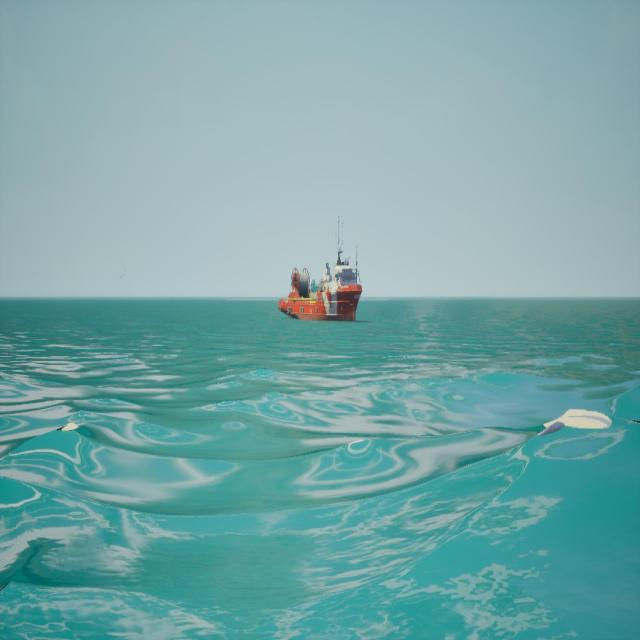tug boat: (279, 214, 365, 324)
